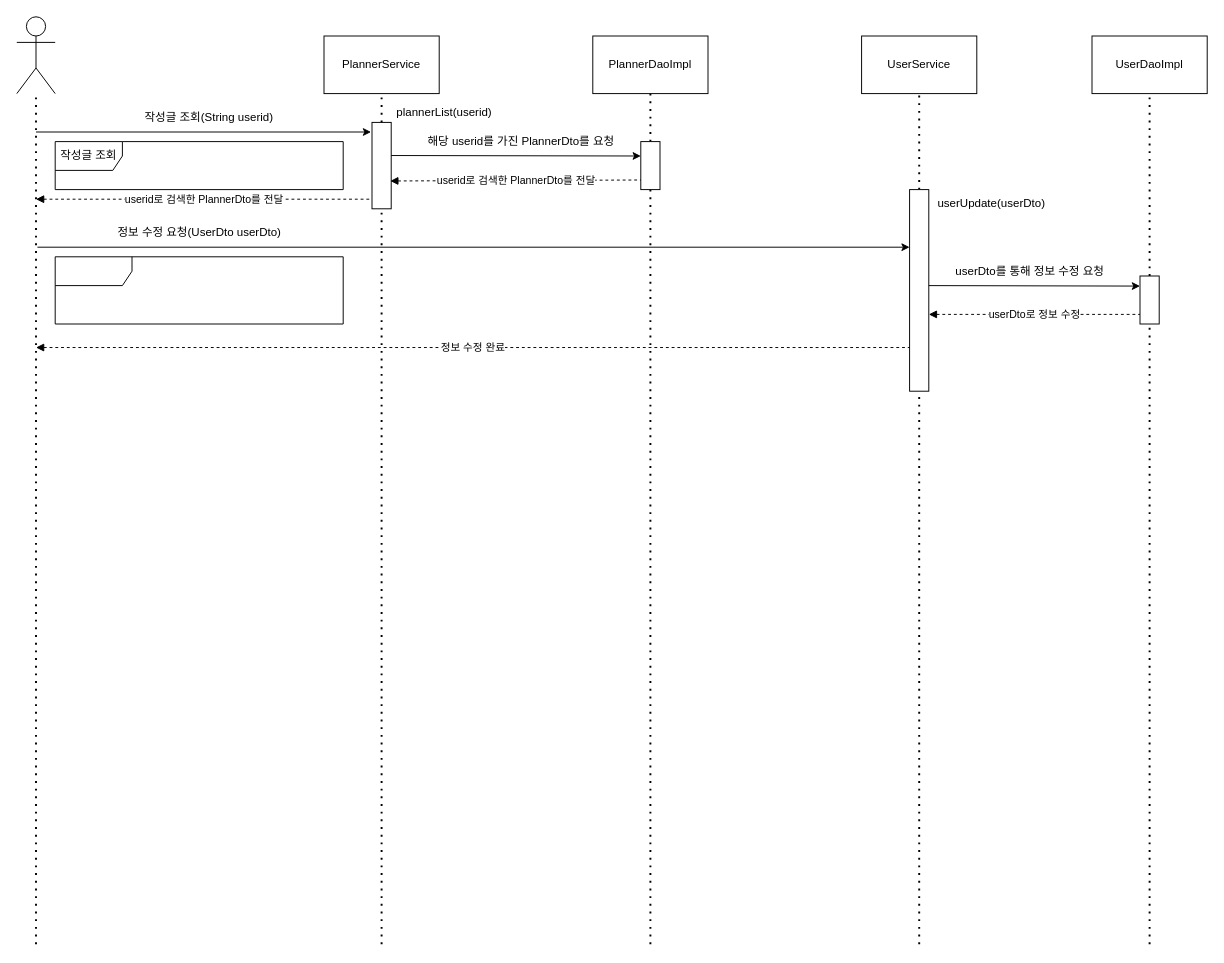
The diagram is 1224 pixels wide and 963 high, and some of its shapes have lost their labels. The centre of each missing label's shape, as x and y in pixels:
정보수정 요청: (x=198, y=290)
회원: (x=35, y=55)
